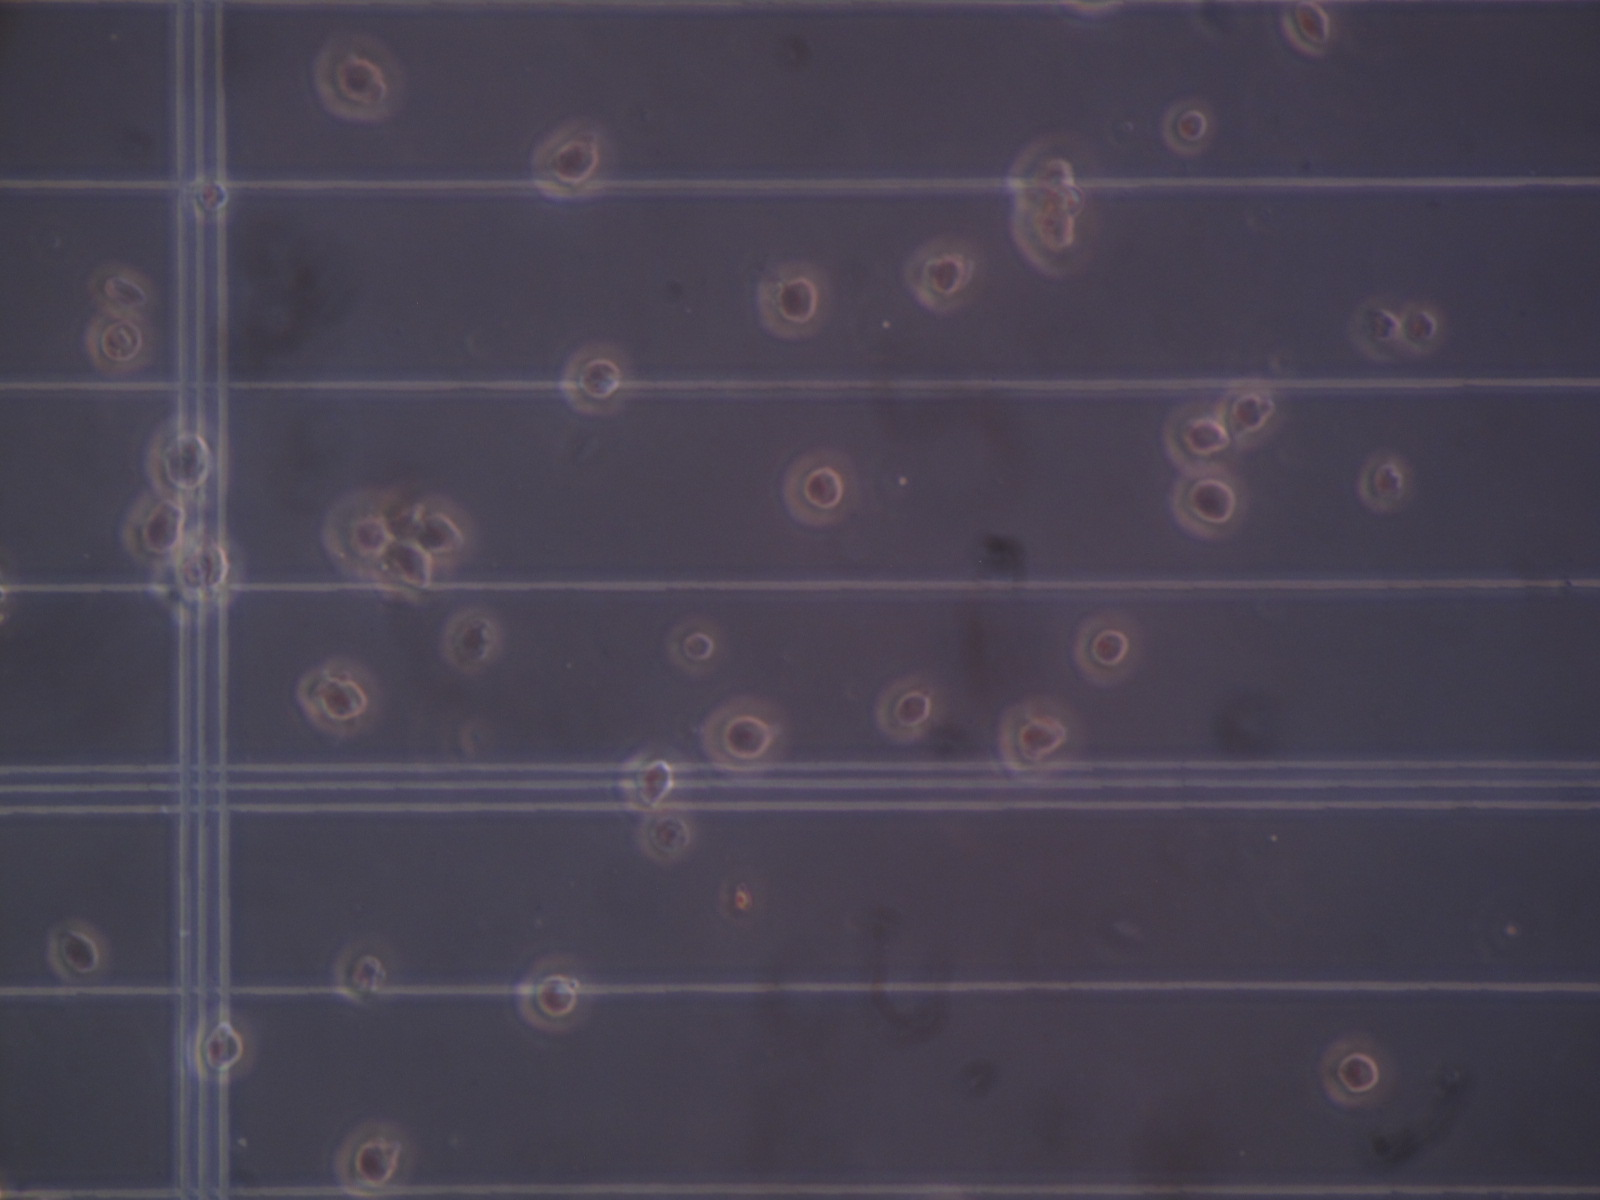hemo: (149, 528, 246, 625), (312, 32, 403, 122), (297, 657, 380, 737), (700, 696, 786, 774), (530, 118, 611, 200), (998, 698, 1082, 776), (144, 415, 217, 504), (321, 490, 396, 577), (334, 1121, 414, 1200), (902, 236, 981, 313), (517, 953, 593, 1032), (1162, 403, 1242, 475), (757, 261, 829, 339), (784, 449, 855, 527), (1170, 466, 1246, 539), (1010, 202, 1081, 276), (561, 342, 631, 416), (1072, 611, 1141, 684), (120, 494, 189, 567), (1007, 137, 1075, 211), (408, 495, 477, 566), (1320, 1037, 1390, 1108), (368, 539, 441, 603), (191, 1011, 254, 1083), (876, 676, 941, 742), (440, 606, 501, 674), (84, 316, 155, 376), (47, 918, 110, 983), (1218, 384, 1279, 450), (617, 749, 677, 814), (88, 263, 156, 319), (333, 939, 388, 1006), (1348, 297, 1403, 362), (666, 616, 724, 676), (1357, 453, 1412, 513), (1160, 100, 1214, 156), (639, 811, 695, 863), (1280, 3, 1333, 57), (1400, 303, 1445, 354), (189, 174, 231, 223)
